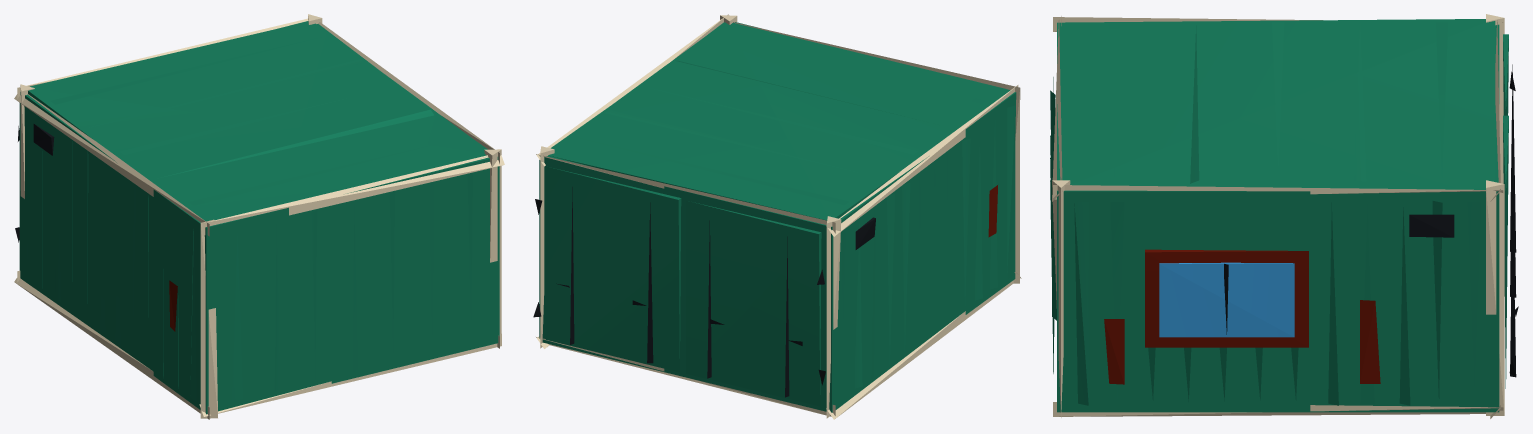
The model's file is tb_upg_container_cabin.three-web-toon.lod25.glb.
The picture shows the model from 3 angles, left to right: view 1: azimuth 30°, elevation 25°; view 2: azimuth 150°, elevation 25°; view 3: azimuth 270°, elevation 25°; orthographic projection. The views are drawn at different scales.
Parts seen in each view (by area): view 1: tb_upg_container_cabin_mesh_lod; view 2: tb_upg_container_cabin_mesh_lod; view 3: tb_upg_container_cabin_mesh_lod.
Boxes of the visible parts, x1=… form: tb_upg_container_cabin_mesh_lod: x1=14, y1=14, x2=504, y2=419; tb_upg_container_cabin_mesh_lod: x1=533, y1=14, x2=1021, y2=419; tb_upg_container_cabin_mesh_lod: x1=1050, y1=14, x2=1518, y2=418.
Bounding box in the file's own units: 2.06 × 1.25 × 2.29.
